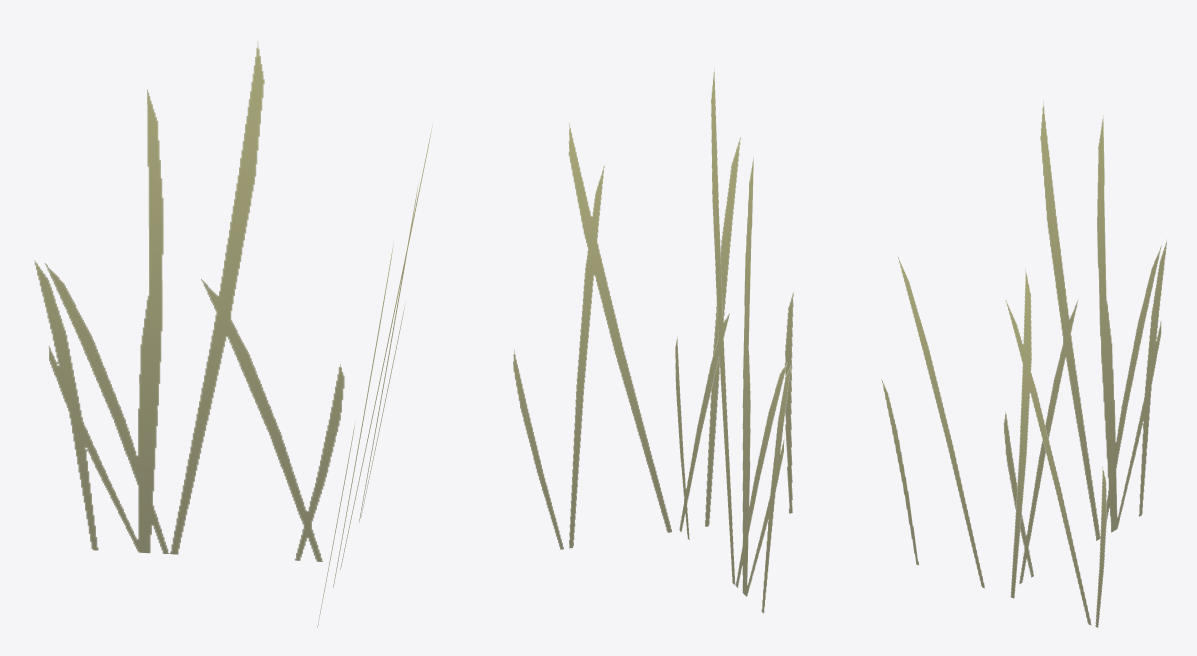
The model's file is SM_detail_grassS_D_LOD2.FBX.
The picture shows the model from 3 angles, left to right: view 1: azimuth 30°, elevation 25°; view 2: azimuth 150°, elevation 25°; view 3: azimuth 270°, elevation 25°; orthographic projection. The views are drawn at different scales.
Visible parts, largest first — view 1: SM_detail_grassS_D_LOD2; view 2: SM_detail_grassS_D_LOD2; view 3: SM_detail_grassS_D_LOD2.
Part boxes in pixels (x1,y1,x2,y2): SM_detail_grassS_D_LOD2: (33,41,432,627); SM_detail_grassS_D_LOD2: (513,66,793,613); SM_detail_grassS_D_LOD2: (881,100,1166,627).
Bounding box in the file's own units: 128 × 170 × 107.
Materials: 1 (1 with a texture image).
